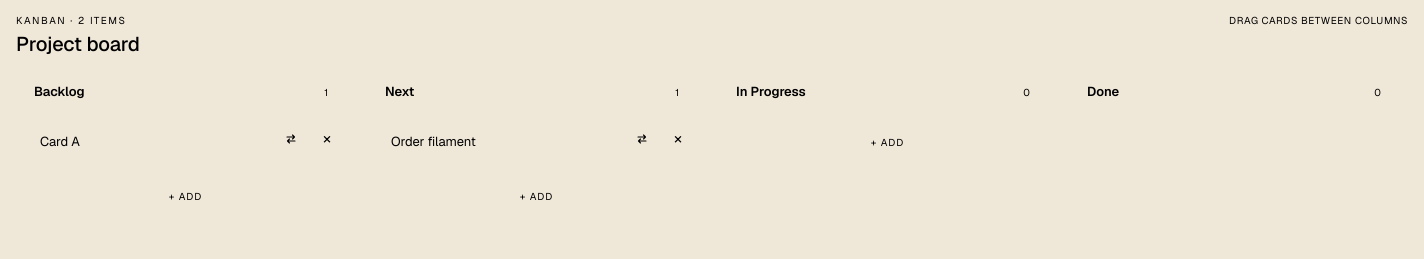
Test: lifecycle#2: a stale card can't bring back a task changed elsewhere › moving a card whose task was deleted elsewhere writes nothing, and the board drops it
Click the button named "Move Card A" at point(291, 139), box [279, 127, 303, 151]
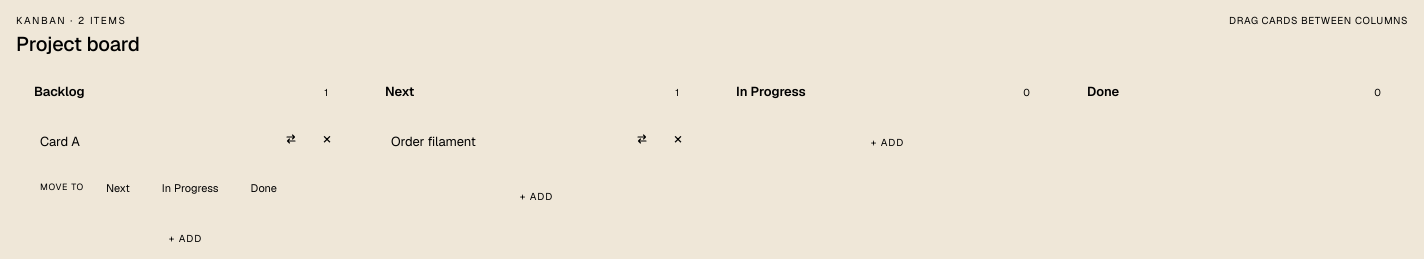
Click the button "Next" at point(118, 188), box [94, 174, 142, 200]
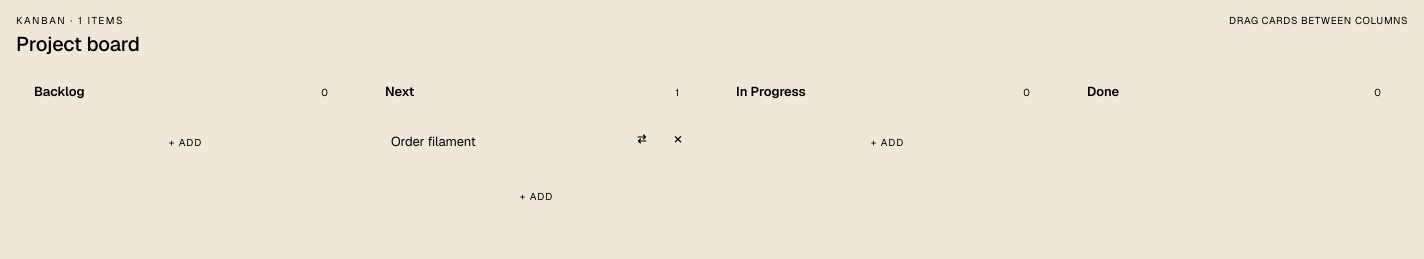
expect the text "Card A" is gone: met
